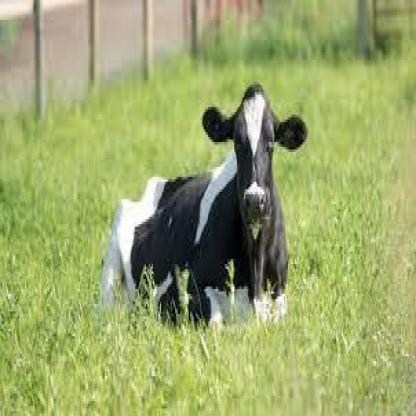cow: (101, 82, 308, 332)
